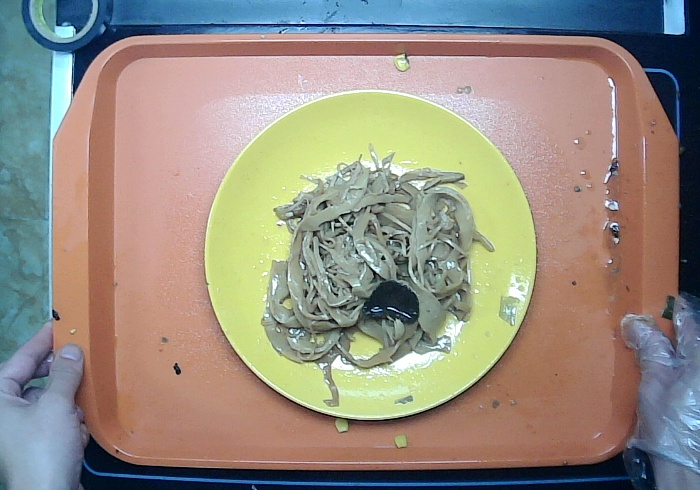HZYJPL-Huang_Se_Yuan_Pan: (194, 79, 536, 428)
